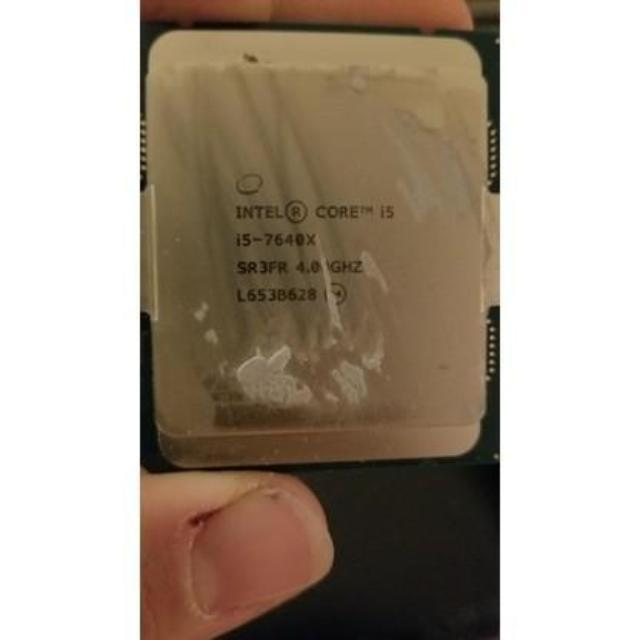CPU: (138, 24, 498, 468)
